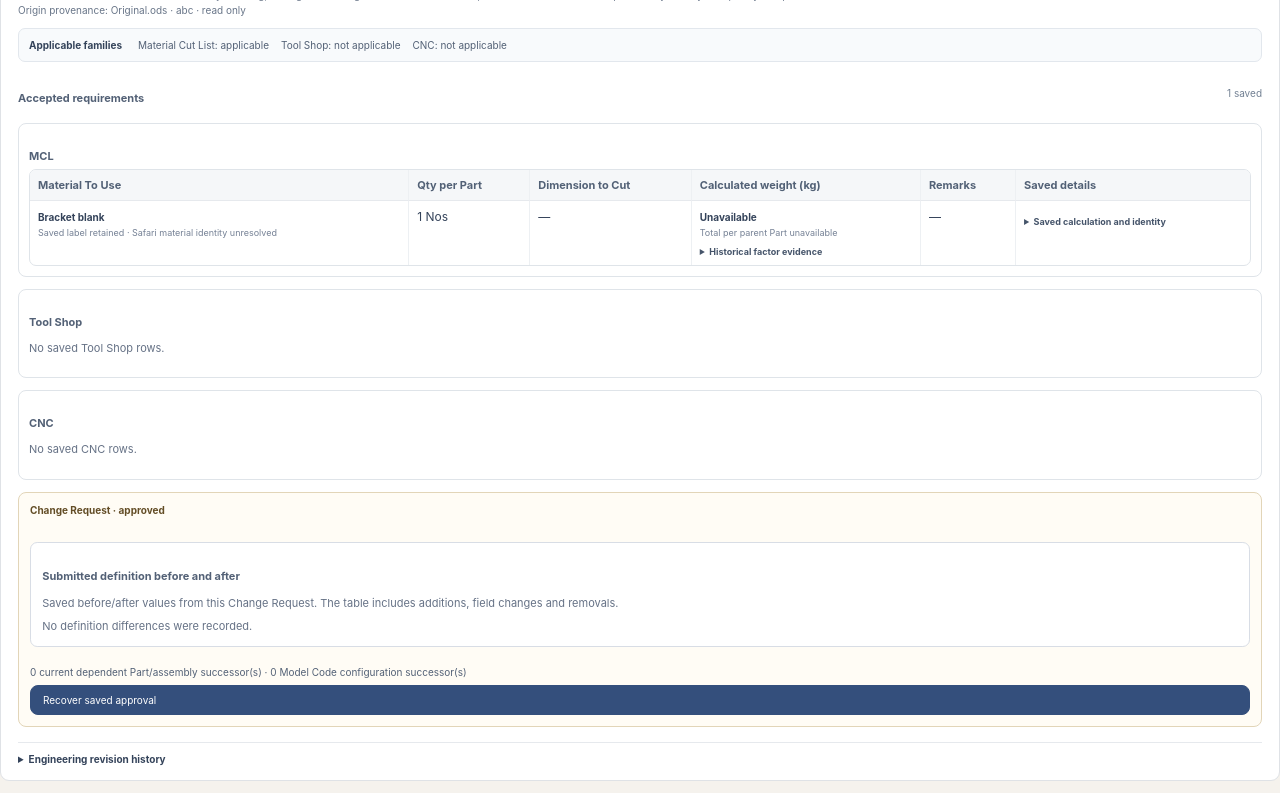
Test case: uses the verified saved approval when browser storage is empty
The width and height of the screenshot is (1280, 793).
(page scrolled)
Click the button "Recover saved approval": (100, 700) x1=30 y1=685 x2=1250 y2=715
(page scrolled)
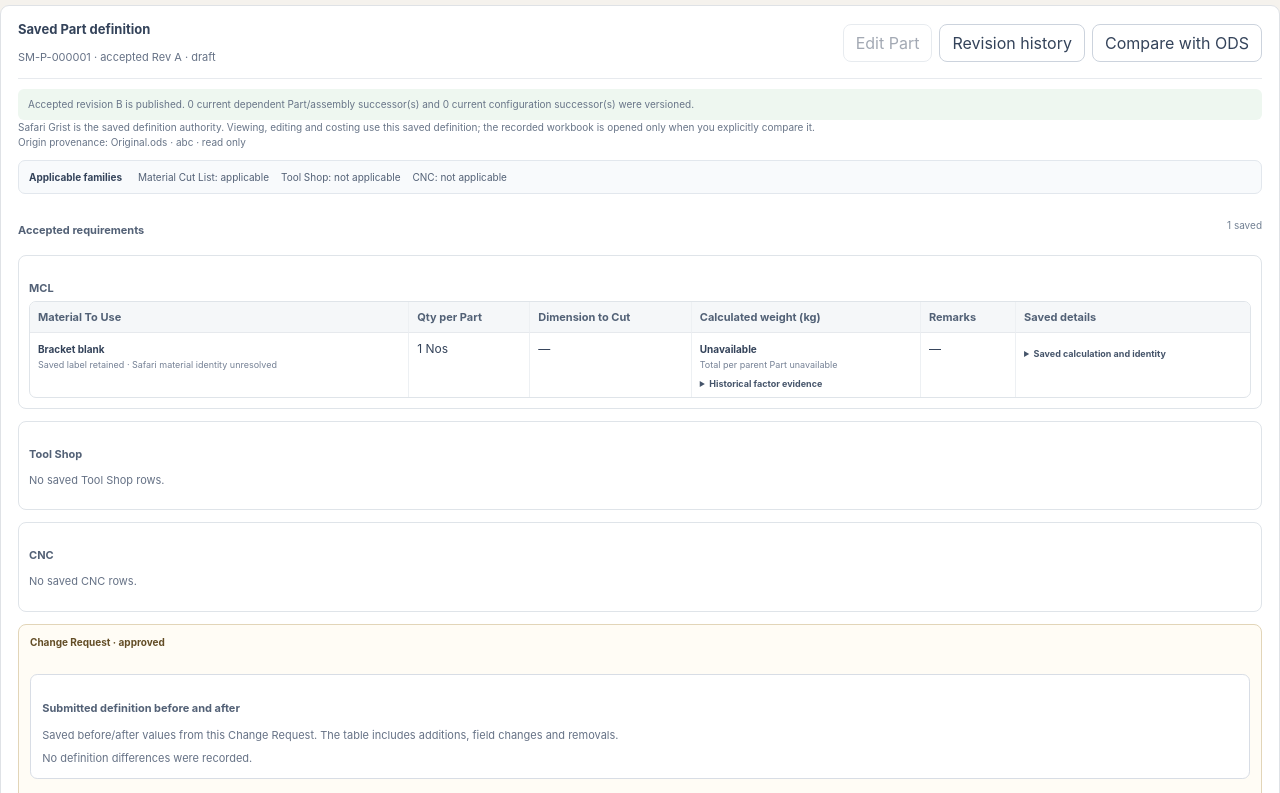
Now the text "Accepted revision B is published" is shown, box x1=28 y1=98 x2=694 y2=110
